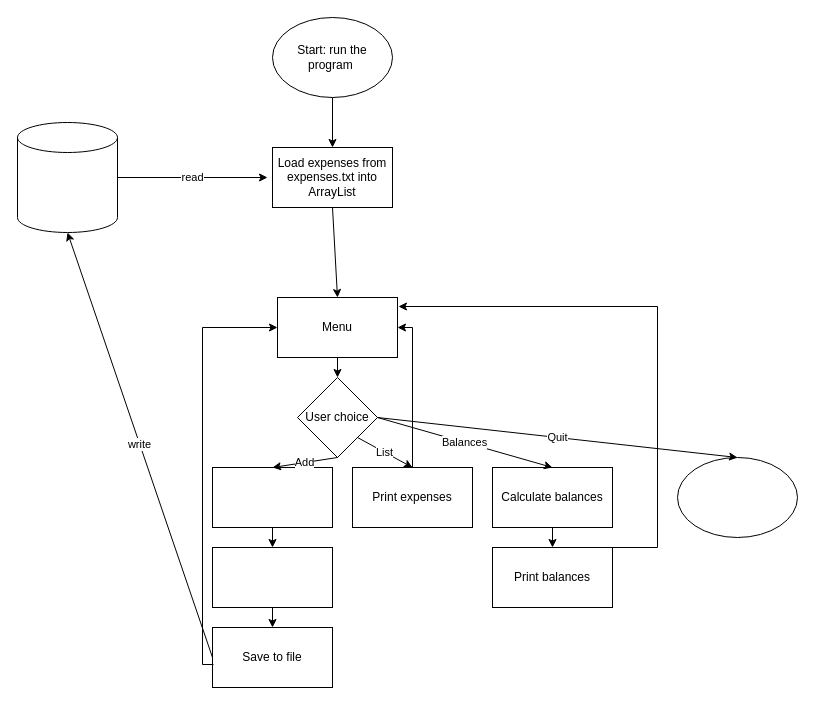
Image size: 815x705. Some labels were removed from this diagram. Each missing label, with the centre of its shape:
"Add to list" belongs at [272,577].
"End" belongs at [737,497].
"Enter expense" belongs at [272,497].
"expenses.txt" belongs at [67,177].
